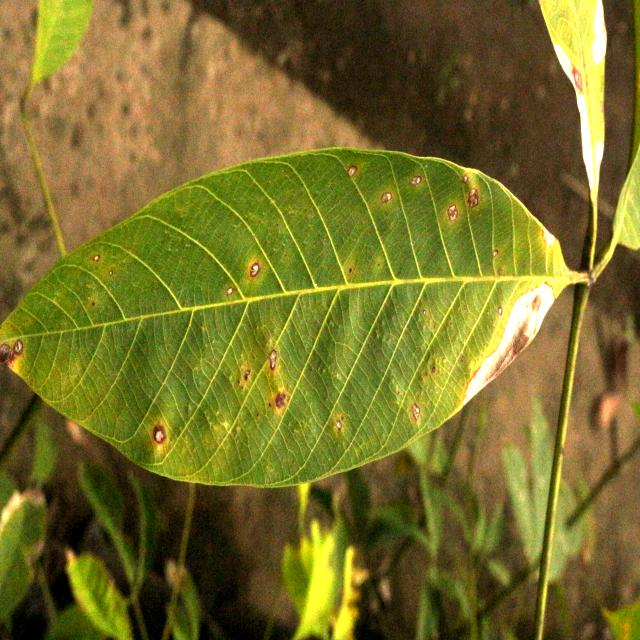Colletotrichum: (154, 426, 166, 444), (447, 203, 459, 221), (13, 338, 23, 356), (380, 191, 392, 203), (411, 174, 422, 186), (250, 263, 260, 276), (348, 164, 358, 176), (492, 249, 499, 260), (227, 286, 234, 294), (498, 307, 503, 317)
Leaf-Blight: (463, 283, 555, 407), (554, 43, 596, 190), (592, 0, 607, 66), (596, 138, 605, 192), (542, 224, 556, 248)
